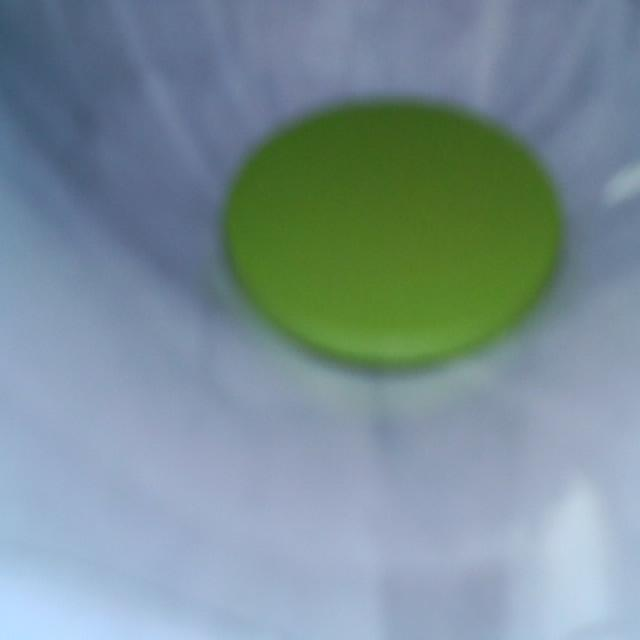circle: (225, 103, 564, 367)
